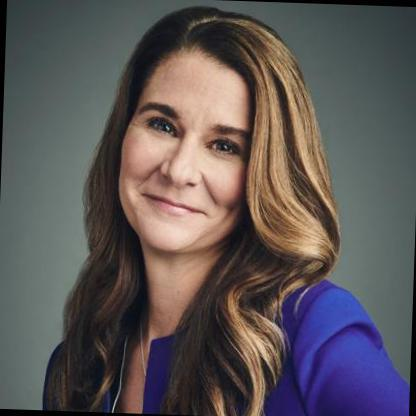Sober: (121, 58, 243, 253)
